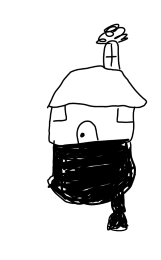door: (73, 119, 100, 148)
open_window: (110, 102, 135, 125), (50, 103, 70, 127)
roof: (40, 62, 151, 111)
shadow: (45, 138, 140, 233)
smoking_chimney: (92, 15, 133, 75)
wall: (46, 102, 138, 150)
